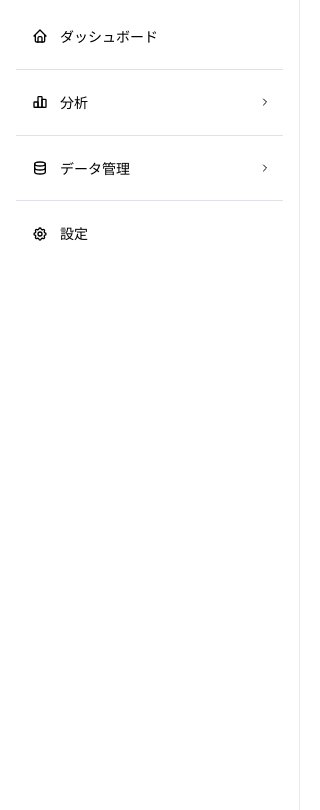
Scenario: Navbar Component › renders data management submenu
The image size is (320, 810).
Click the text "データ管理": (95, 168) [60,160,130,177]
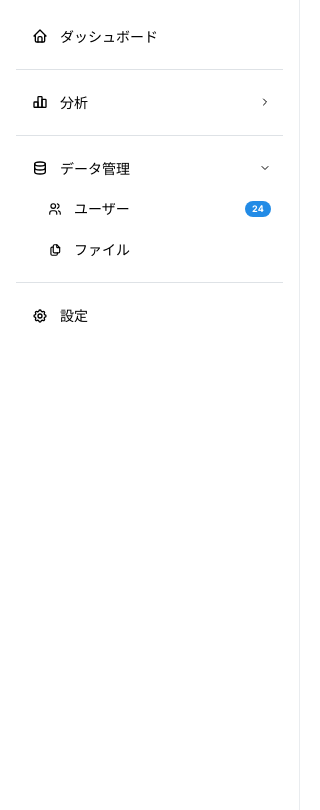
Now the text "ユーザー" is shown, box [74,200,130,217]
Now the text "ファイル" is shown, box [74,241,130,258]
